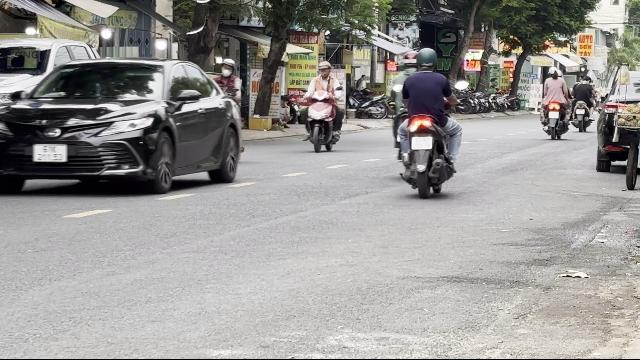helmet: (414, 47, 438, 70), (316, 61, 332, 77)
licenseplate: (412, 136, 432, 150)
motorcyclist: (391, 47, 463, 197), (301, 60, 345, 152)
